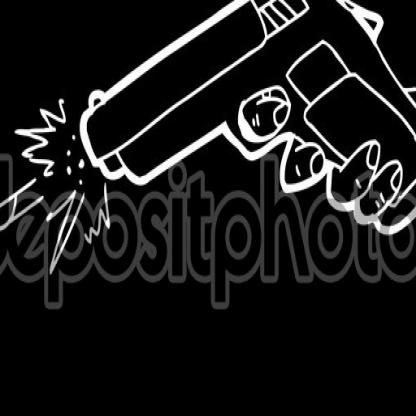gun: (73, 0, 415, 270)
